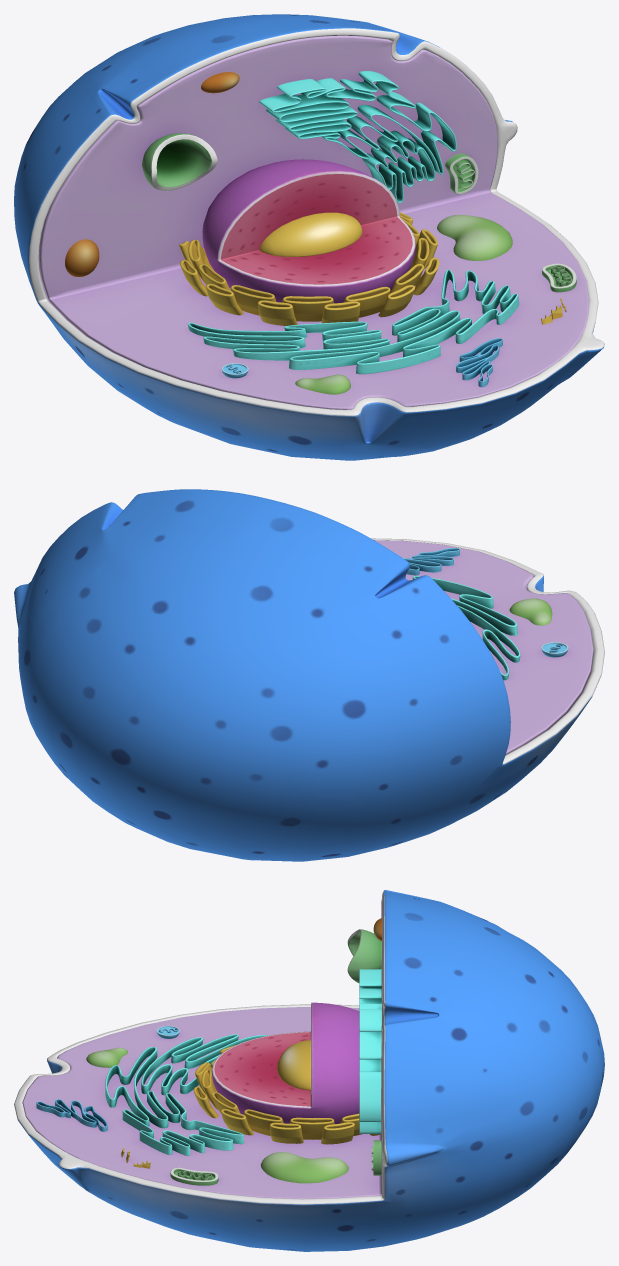
Rendered from animal.glb.
3 renders of one model, top to bottom at view 1: azimuth 30°, elevation 25°; view 2: azimuth 150°, elevation 25°; view 3: azimuth 270°, elevation 25°, orthographic. The views are drawn at different scales.
Visible parts, largest first — view 1: node_id33_3, node_id31_0; view 2: node_id33_3, node_id31_0; view 3: node_id33_3, node_id31_0.
Boxes of the visible parts, x1=… form: node_id33_3: x1=14, y1=14, x2=604, y2=460; node_id31_0: x1=38, y1=35, x2=589, y2=409; node_id33_3: x1=14, y1=489, x2=604, y2=861; node_id31_0: x1=374, y1=540, x2=593, y2=754; node_id33_3: x1=14, y1=890, x2=604, y2=1251; node_id31_0: x1=22, y1=899, x2=382, y2=1199.
Size of the model in its own units: 0.512 by 0.3412 by 0.617.
Materials: 2 (2 with a texture image).
